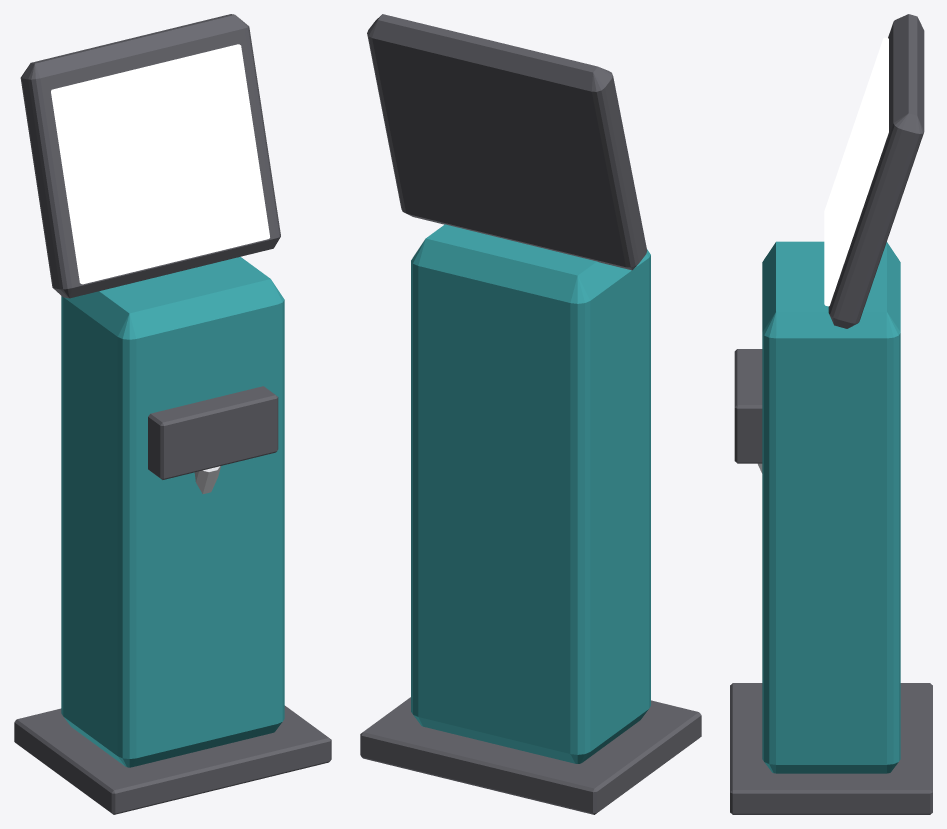
File: motorway-services-and-truck-park-self-service-kiosk-15e96346__35934.glb
3 views of the same model, side by side, from view 1: azimuth 30°, elevation 25°; view 2: azimuth 150°, elevation 25°; view 3: azimuth 270°, elevation 25° (orthographic). The views are drawn at different scales.
Visible parts, largest first — view 1: self-service-kiosk, kiosk-screen/lit, kiosk-screen/dark; view 2: self-service-kiosk, kiosk-screen/dark; view 3: self-service-kiosk, kiosk-screen/dark, kiosk-screen/lit.
Part boxes in pixels (x1,y1,x2,y2): self-service-kiosk: (14,257,331,814); kiosk-screen/lit: (51,44,269,284); kiosk-screen/dark: (20,14,280,298); self-service-kiosk: (360,224,701,814); kiosk-screen/dark: (367,14,647,270); self-service-kiosk: (730,241,932,814); kiosk-screen/dark: (828,14,924,328); kiosk-screen/lit: (824,37,888,306).
Size of the model in its own units: 0.56 by 1.67 by 0.4399.
